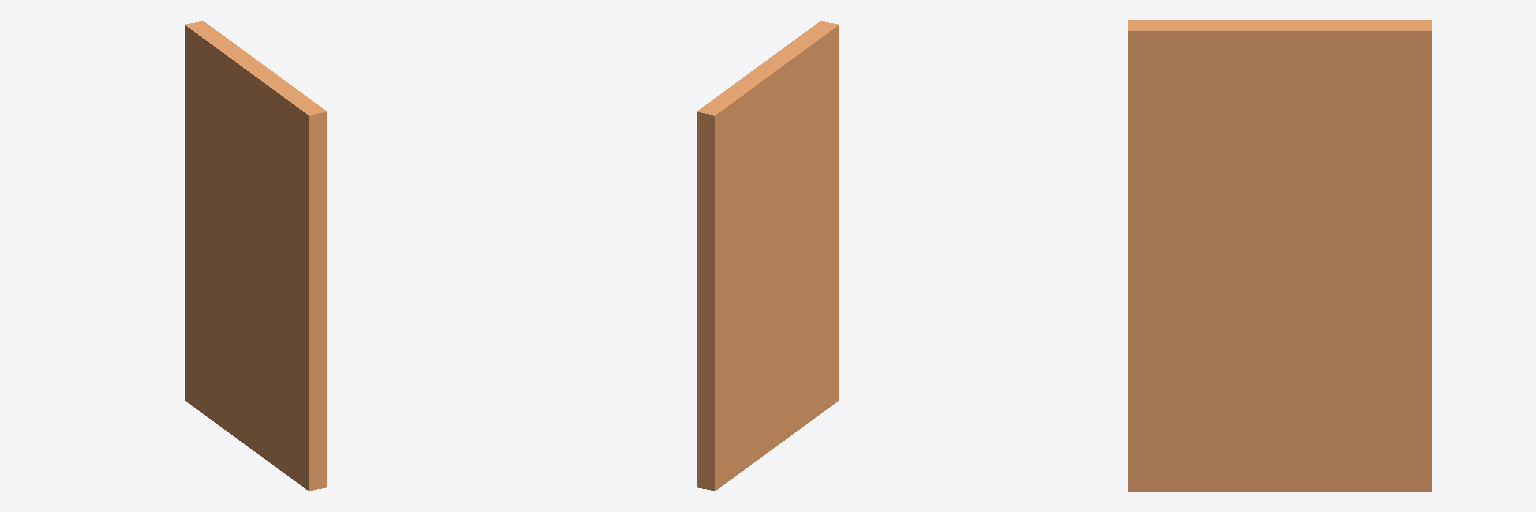
robot.urdf — innerwall_small:
<?xml version="0.0" ?>
<robot name="innerwall_small">
  <link name="baseLink">
    <contact>
      <lateral_friction value="1.0"/>
      <rolling_friction value="0.0"/>
      <contact_cfm value="10000.0"/>
      <contact_erp value="1000.0"/>
    </contact>
    <inertial>
      <origin rpy="0 0 0" xyz="0 0 0"/>
       <mass value="100.0"/>
       <inertia ixx="1000" ixy="1000" ixz="1000" iyy="1000" iyz="1000" izz="1000"/>
    </inertial>
    <visual>
      <origin rpy="0 0 0" xyz="0 0 0"/>
      <geometry>
        <box size="0.1 1.2 2"/>
      </geometry>
       <material name="brown">
        <color rgba="0.9921 0.717 0.498 1"/>
      </material> 
    </visual>
    <collision>
      <origin rpy="0 0 0" xyz="0 0 0"/>
      <geometry>
	 	    <box size="0.1 1.2 2"/> 
      </geometry>
    </collision>
  </link>
</robot>

--- Render facts (derived) ---
3 views of the same robot in one strip: view 1: azimuth 30°, elevation 25°; view 2: azimuth 150°, elevation 25°; view 3: azimuth 270°, elevation 25° (orthographic).
Model innerwall_small with 1 links and 0 joints (none), rooted at baseLink, posed every joint at zero.
Visible links, largest first — view 1: baseLink; view 2: baseLink; view 3: baseLink.
Boxes of the visible links, x1,y1,x2,y2 form: baseLink: (185, 21, 326, 490); baseLink: (697, 21, 838, 490); baseLink: (1128, 20, 1431, 491).
Bounding box of the posed robot: 0.1 × 1.2 × 2 m (x, y, z).
Geometry: primitives only (box / cylinder / sphere), no mesh files.